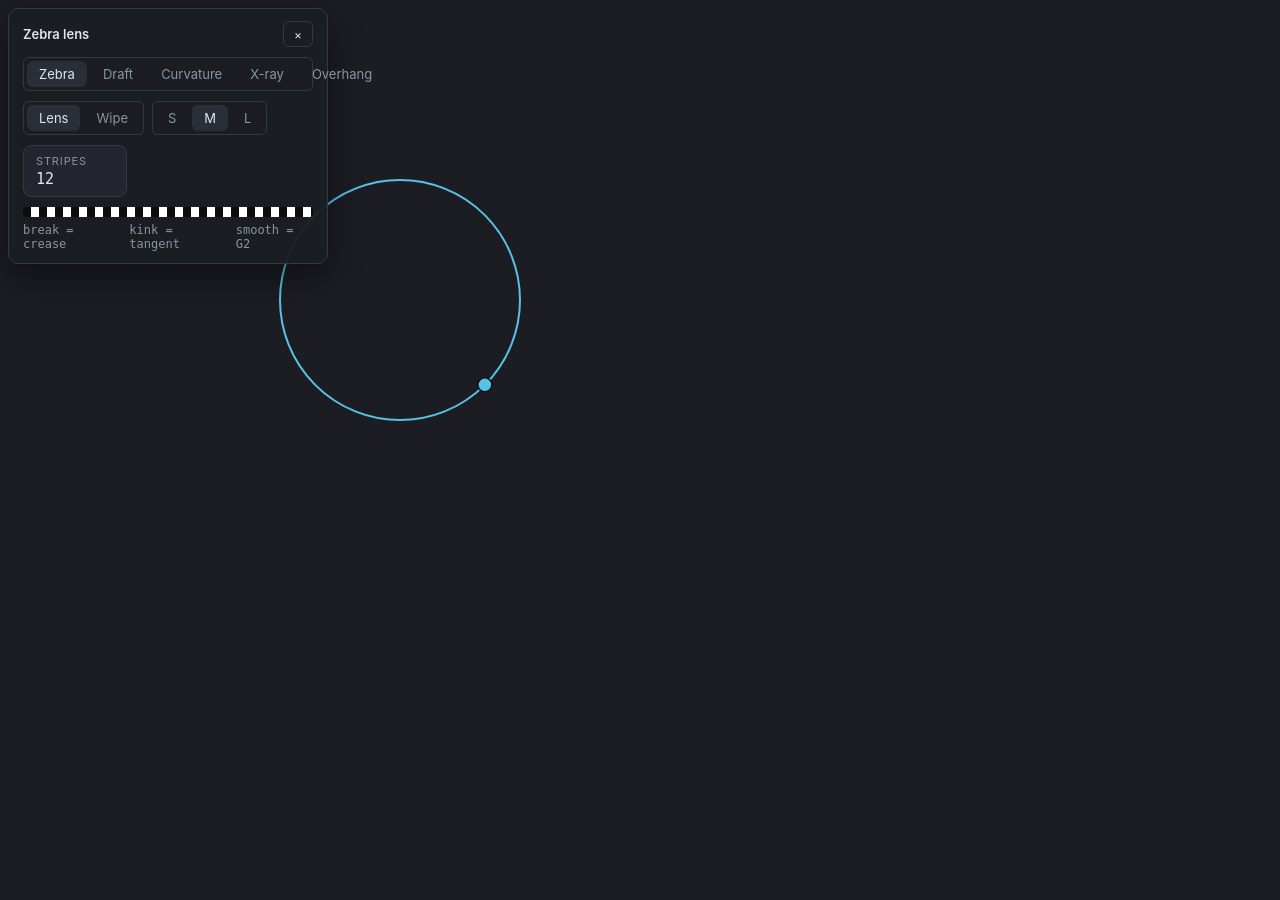
it: LensOverlay › switches mode from the HUD and reads the orientation back
What coordinates should you click on to do the following:
click the button "Overhang"
I would click on:
 (342, 74)
Its box is x1=300 y1=61 x2=384 y2=87.
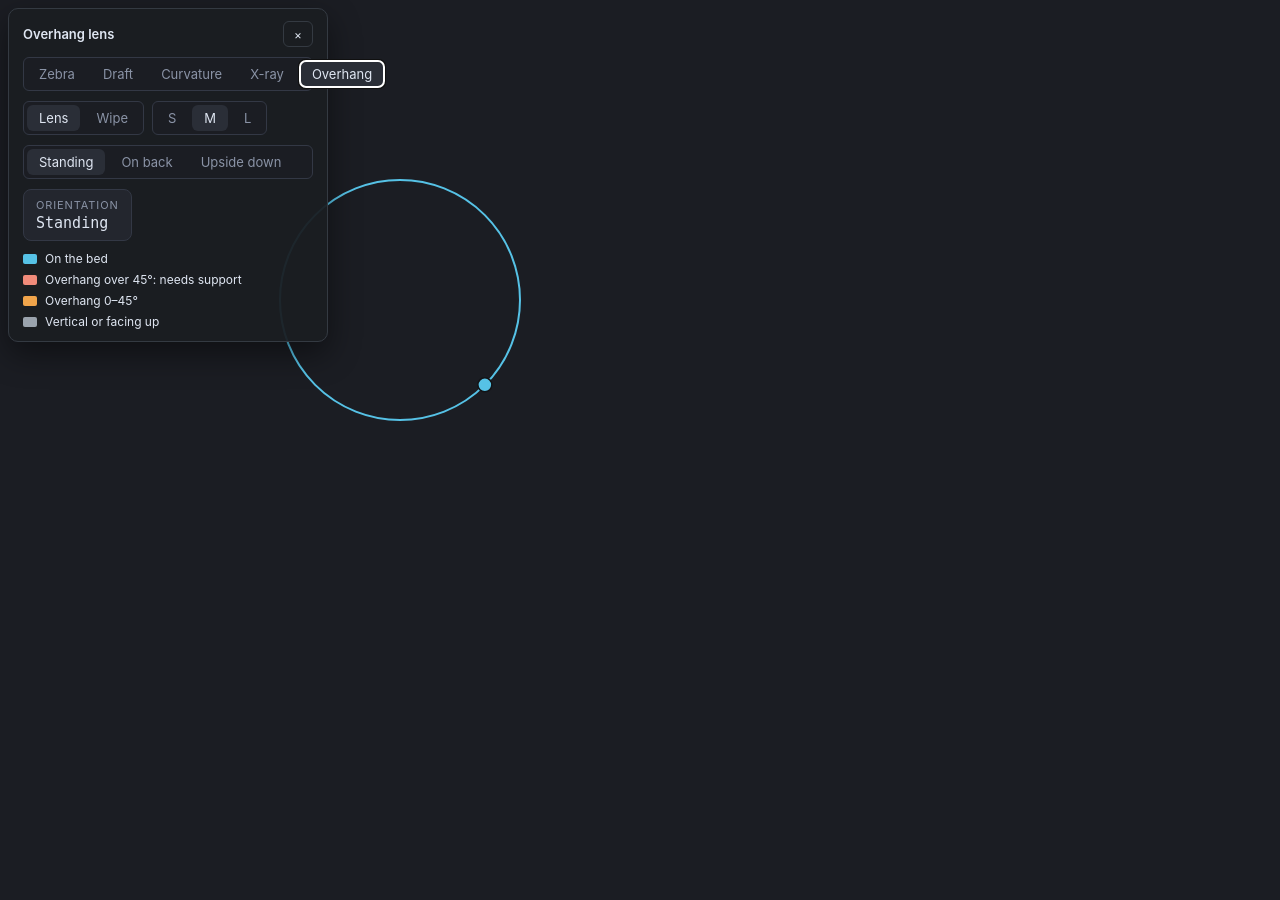
What coordinates should you click on to do the following:
click the button "Upside down"
I would click on:
 (241, 162)
Its box is x1=189 y1=149 x2=293 y2=175.
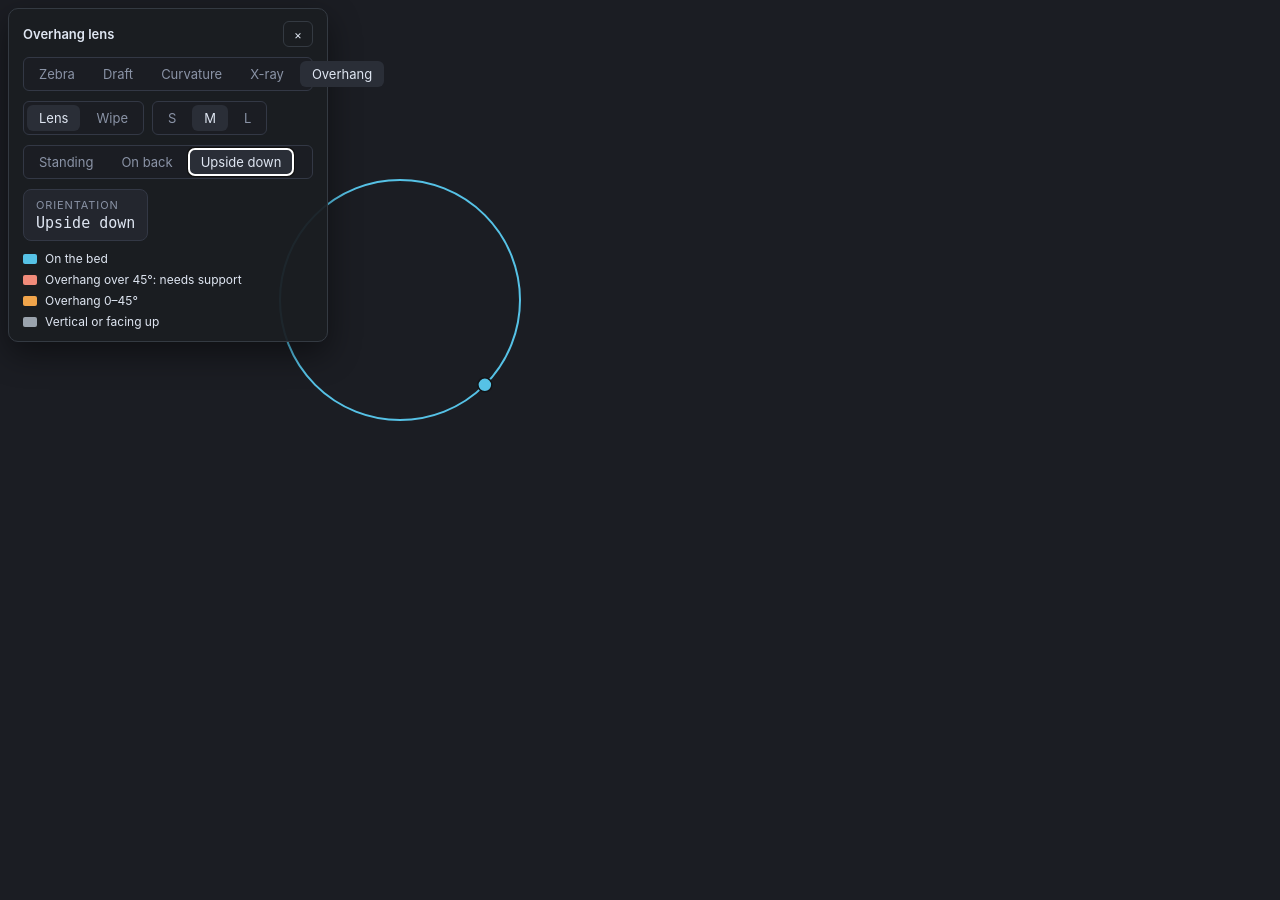
Now the text "Upside down" is shown, box x1=36 y1=214 x2=135 y2=232
